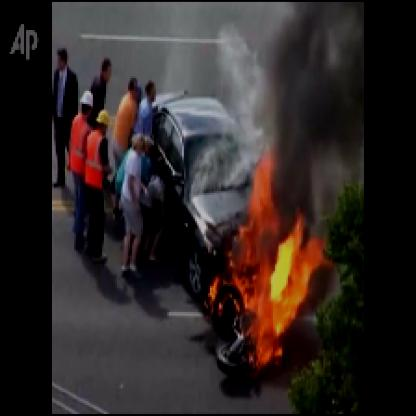Fire: (210, 160, 314, 377)
Smoke: (275, 2, 362, 174)
